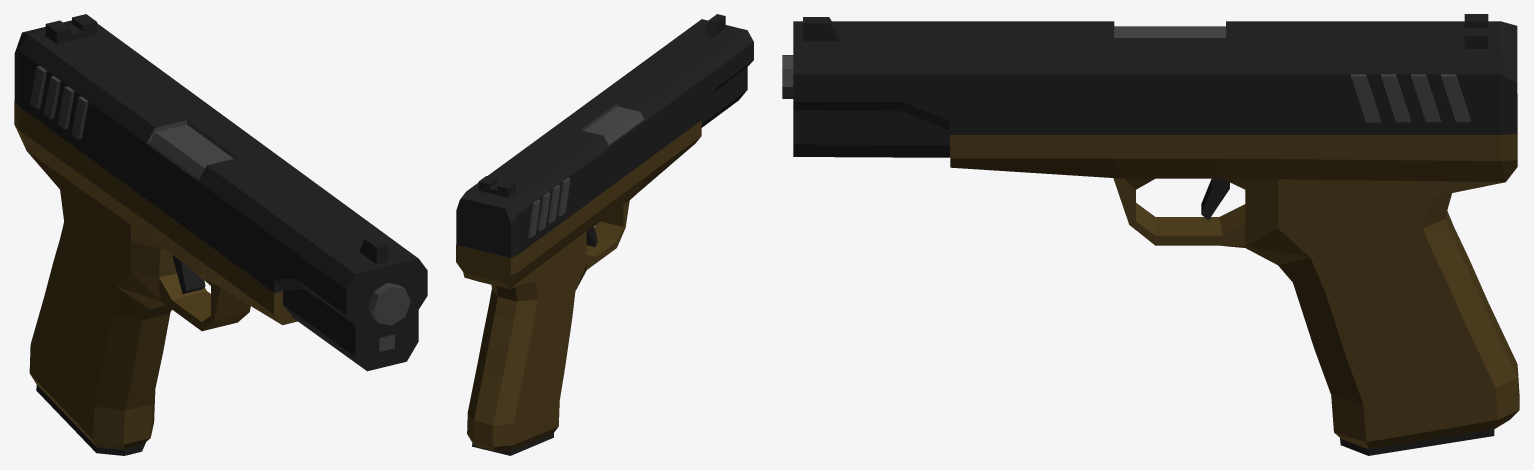
The model's file is pistol.fbx.
3 views of the same model, side by side, from view 1: azimuth 30°, elevation 25°; view 2: azimuth 150°, elevation 25°; view 3: azimuth 270°, elevation 25° (orthographic). The views are drawn at different scales.
Parts seen in each view (by area): view 1: Cube.001, Cube, Cylinder, Cube.002, Cube.003; view 2: Cube.001, Cube, Cube.002; view 3: Cube.001, Cube, Cube.002, Cube.003.
Part boxes in pixels (box(x1,y1,x2,y2)): Cube.001: box(14, 14, 427, 371); Cube: box(14, 101, 297, 449); Cylinder: box(368, 283, 410, 325); Cube.002: box(36, 385, 145, 455); Cube.003: box(172, 255, 205, 293); Cube.001: box(456, 14, 753, 257); Cube: box(456, 120, 701, 451); Cube.002: box(472, 433, 553, 455); Cube.001: box(793, 14, 1517, 157); Cube: box(949, 94, 1519, 449); Cube.002: box(1340, 429, 1494, 455); Cube.003: box(1201, 178, 1229, 220).
Size of the model in its own units: 156 by 658 by 1042.
